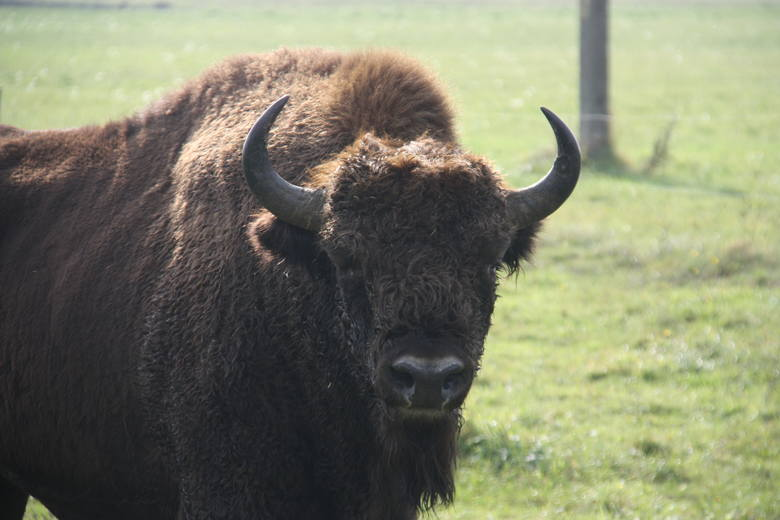zubr: (1, 41, 640, 515)
